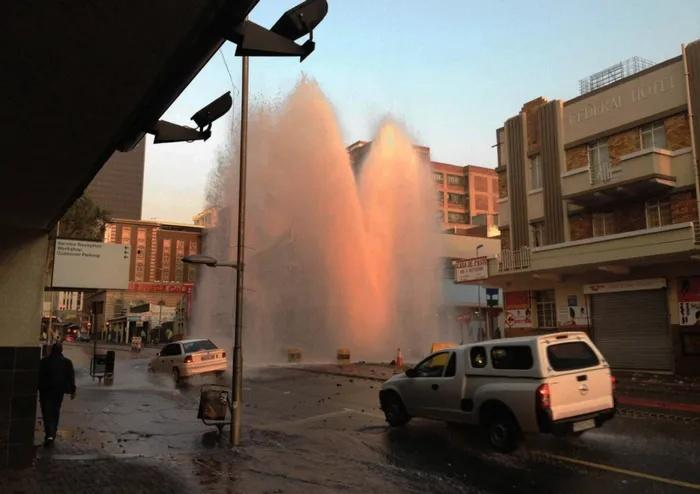pipe burst: (195, 72, 442, 364)
water accumulation: (67, 363, 473, 494)
